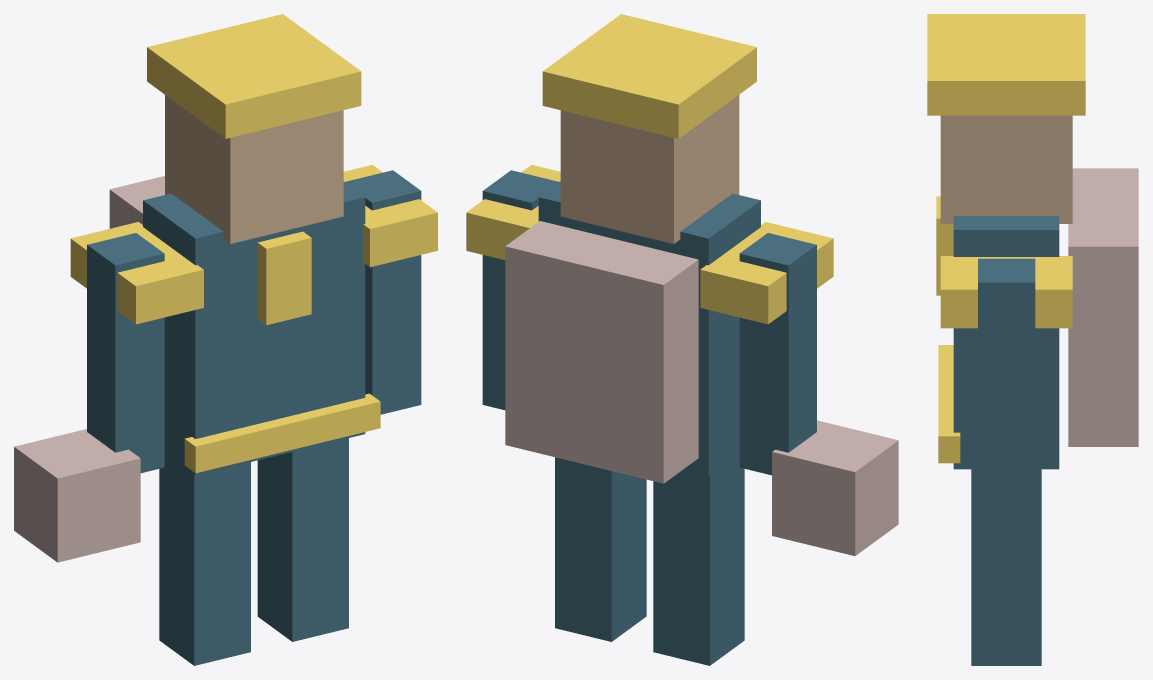
Rendered from 05_kael_nullborne_responder_near_slag.glb.
The picture shows the model from 3 angles, left to right: view 1: azimuth 30°, elevation 25°; view 2: azimuth 150°, elevation 25°; view 3: azimuth 270°, elevation 25°; orthographic projection.
Visible parts, largest first — view 1: Kael Nullborne, Responder near Slag; view 2: Kael Nullborne, Responder near Slag; view 3: Kael Nullborne, Responder near Slag.
Part boxes in pixels (x1,y1,x2,y2): Kael Nullborne, Responder near Slag: (14, 14, 437, 665); Kael Nullborne, Responder near Slag: (466, 14, 898, 665); Kael Nullborne, Responder near Slag: (927, 14, 1138, 665).
Size of the model in its own units: 0.9928 by 1.45 by 0.479.
